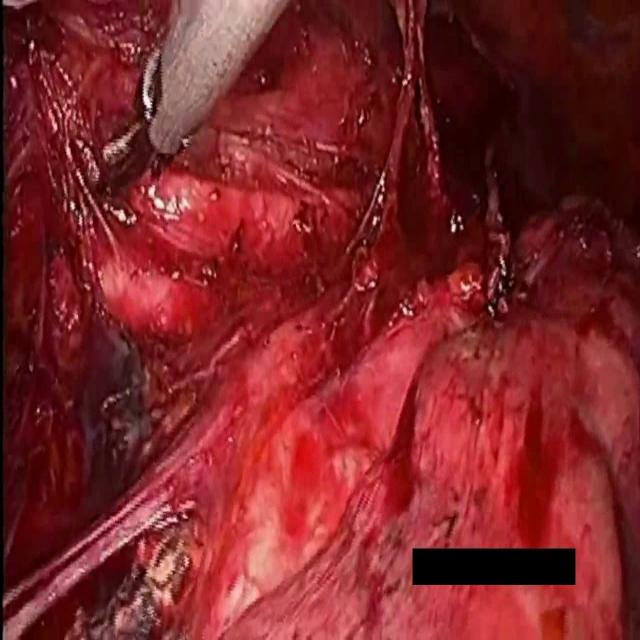surgical-area: (403, 545, 640, 639)
surgical-tool: (84, 0, 292, 220)
